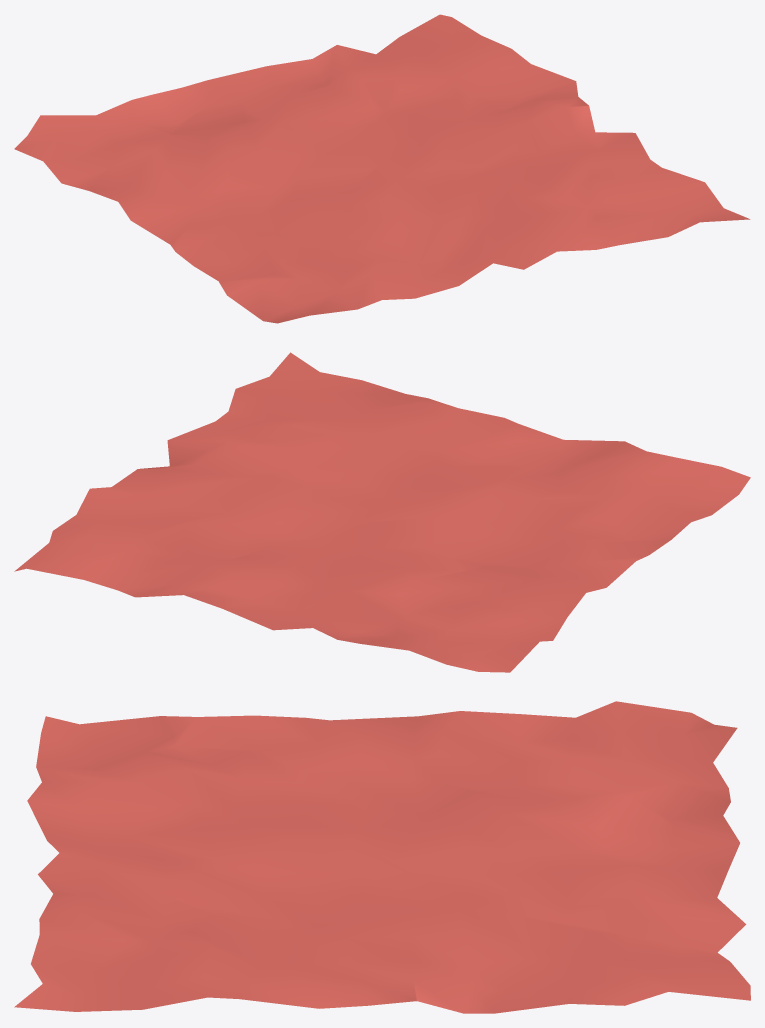
File: Ground.fbx
3 views of the same model, one above another, from view 1: azimuth 30°, elevation 25°; view 2: azimuth 150°, elevation 25°; view 3: azimuth 270°, elevation 25° (orthographic). The views are drawn at different scales.
Parts seen in each view (by area): view 1: Plane; view 2: Plane; view 3: Plane.
Part boxes in pixels (x1,y1,x2,y2): Plane: [14, 14, 750, 323]; Plane: [14, 352, 750, 672]; Plane: [14, 701, 750, 1013].
Bounding box in the file's own units: 1000 × 34.05 × 1013.
